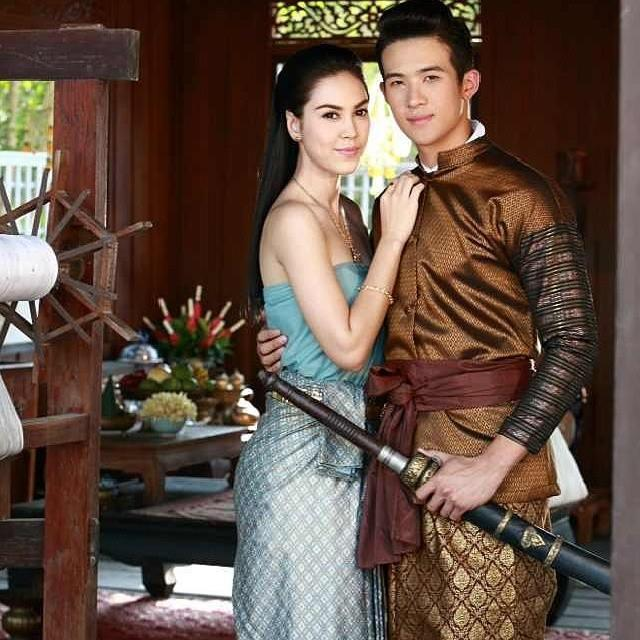long sword: (251, 362, 604, 596)
